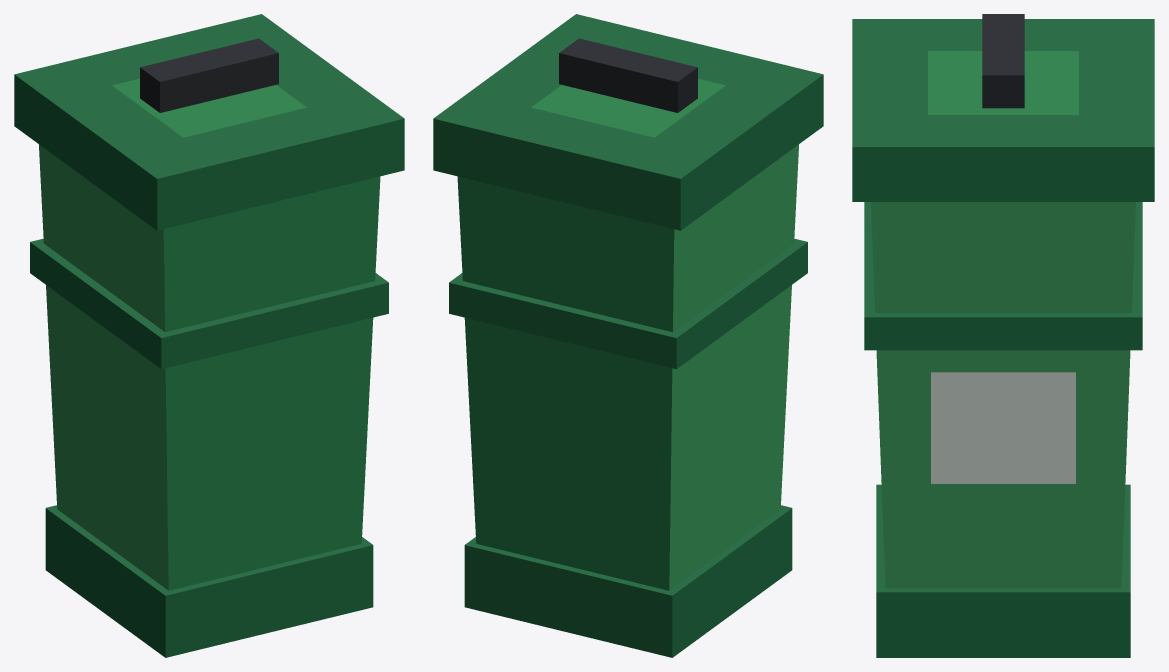
File: trash_bin.glb
The picture shows the model from 3 angles, left to right: view 1: azimuth 30°, elevation 25°; view 2: azimuth 150°, elevation 25°; view 3: azimuth 270°, elevation 25°; orthographic projection. The views are drawn at different scales.
Visible parts, largest first — view 1: trash_bin; view 2: trash_bin; view 3: trash_bin.
Part boxes in pixels (left/top/right/bottom): trash_bin: left=14, top=14, right=404, bottom=657; trash_bin: left=433, top=14, right=823, bottom=657; trash_bin: left=852, top=14, right=1154, bottom=657.
Size of the model in its own units: 0.5 by 1.02 by 0.5.
